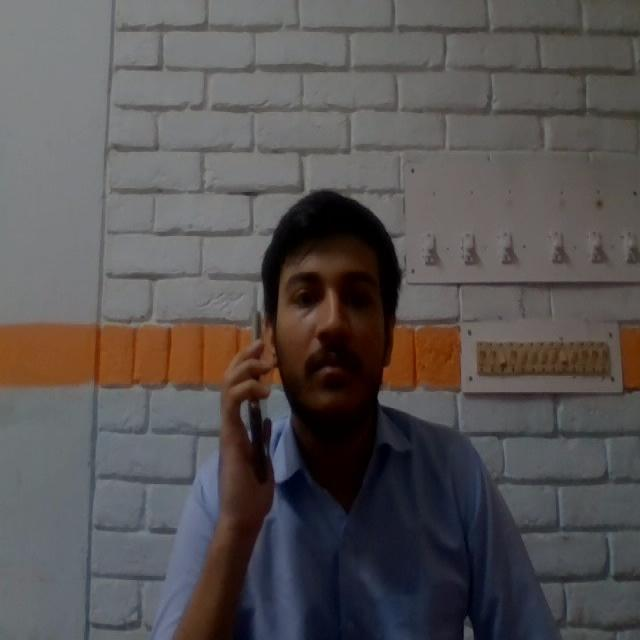oncall: (178, 183, 566, 640)
phone: (231, 298, 278, 492)
